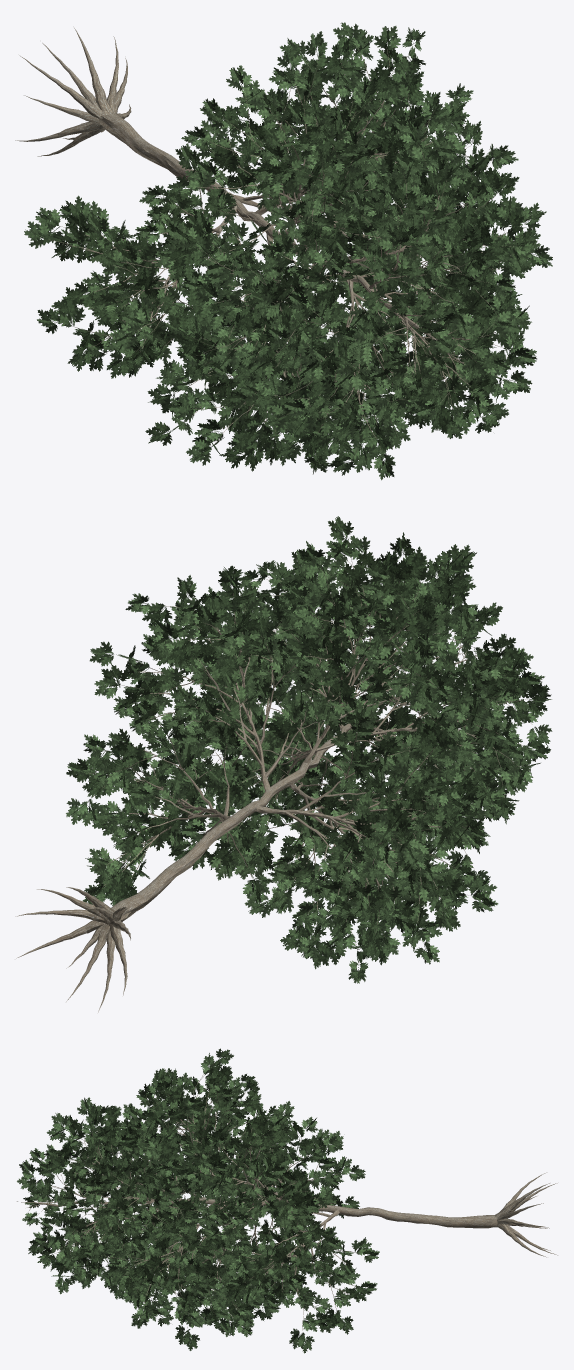
The picture shows the model from 3 angles, top to bottom: view 1: azimuth 30°, elevation 25°; view 2: azimuth 150°, elevation 25°; view 3: azimuth 270°, elevation 25°; orthographic projection. The views are drawn at different scales.
Parts seen in each view (by area): view 1: EA14y; view 2: EA14y; view 3: EA14y.
Part boxes in pixels (x1,y1,x2,y2): EA14y: [15, 22, 552, 480]; EA14y: [15, 516, 552, 1012]; EA14y: [17, 1048, 557, 1353].
Bounding box in the file's own units: 42.82 × 42.03 × 72.55.
Materials: 2 (2 with a texture image).
